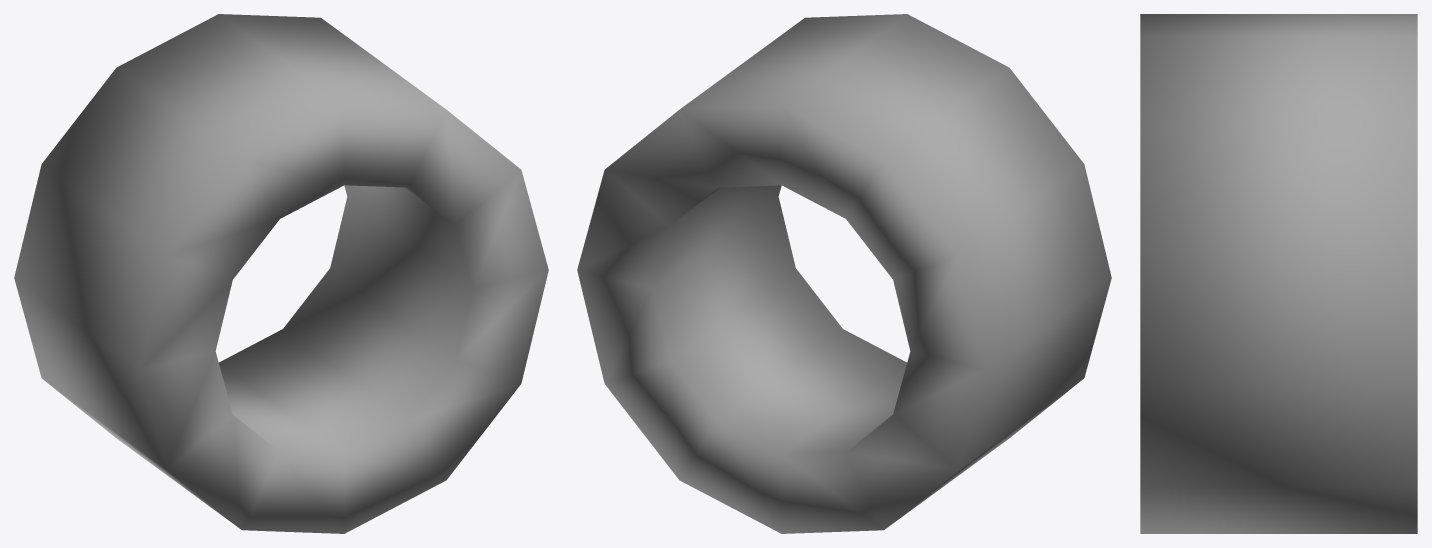
The model's file is Prisoner_handcuff.fbx.
3 renders of one model, left to right at view 1: azimuth 30°, elevation 25°; view 2: azimuth 150°, elevation 25°; view 3: azimuth 270°, elevation 25°, orthographic. The views are drawn at different scales.
Parts seen in each view (by area): view 1: Prisoner_handcuff; view 2: Prisoner_handcuff; view 3: Prisoner_handcuff.
Boxes of the visible parts, x1,y1,x2,y2 form: Prisoner_handcuff: (14, 14, 548, 533); Prisoner_handcuff: (577, 14, 1111, 533); Prisoner_handcuff: (1140, 14, 1417, 533).
Size of the model in its own units: 0.1893 by 0.1893 by 0.1007.
